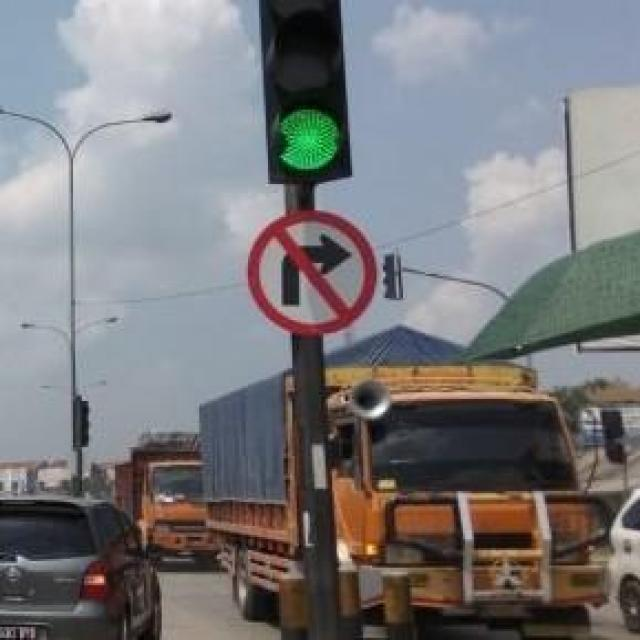do_not_turn_r: (250, 213, 379, 334)
